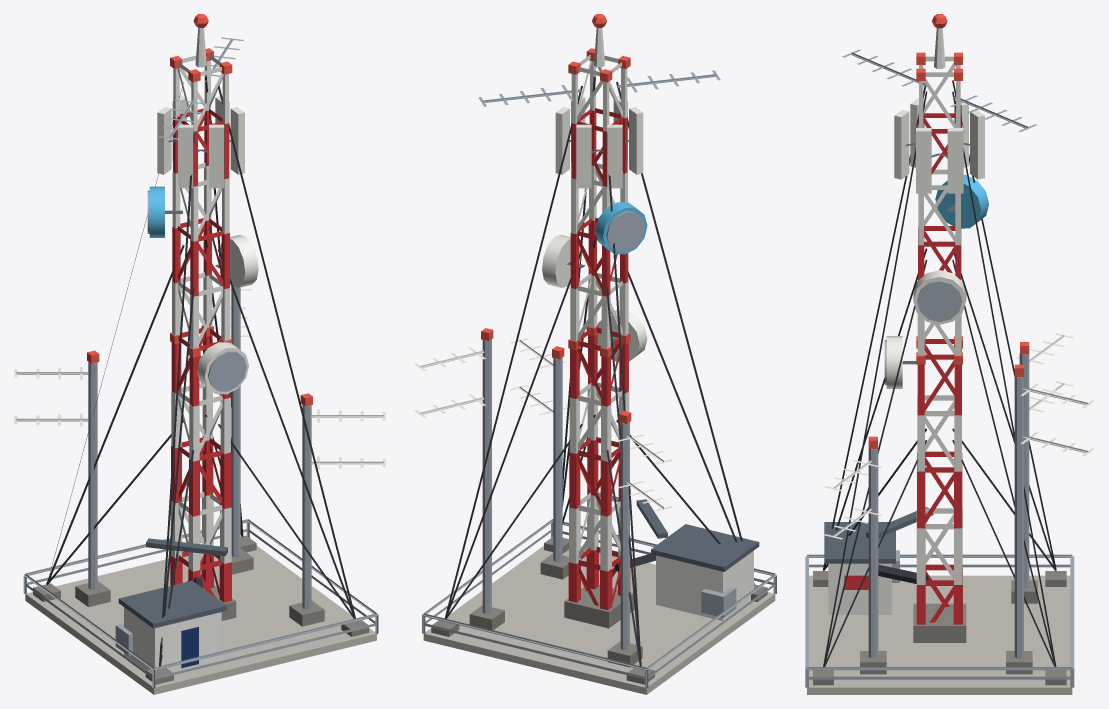
File: antenna_array.glb
3 views of the same model, side by side, from view 1: azimuth 30°, elevation 25°; view 2: azimuth 150°, elevation 25°; view 3: azimuth 270°, elevation 25° (orthographic). The views are drawn at different scales.
Visible parts, largest first — view 1: Body; view 2: Body; view 3: Body.
Part boxes in pixels (x1,y1,x2,y2): Body: (14, 14, 385, 694); Body: (414, 14, 776, 694); Body: (805, 14, 1094, 694).
Size of the model in its own units: 1.2 by 2.6 by 1.09.
